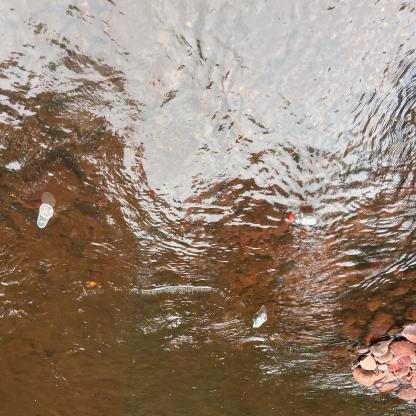Plastic: (36, 202, 54, 231), (250, 310, 268, 329)
